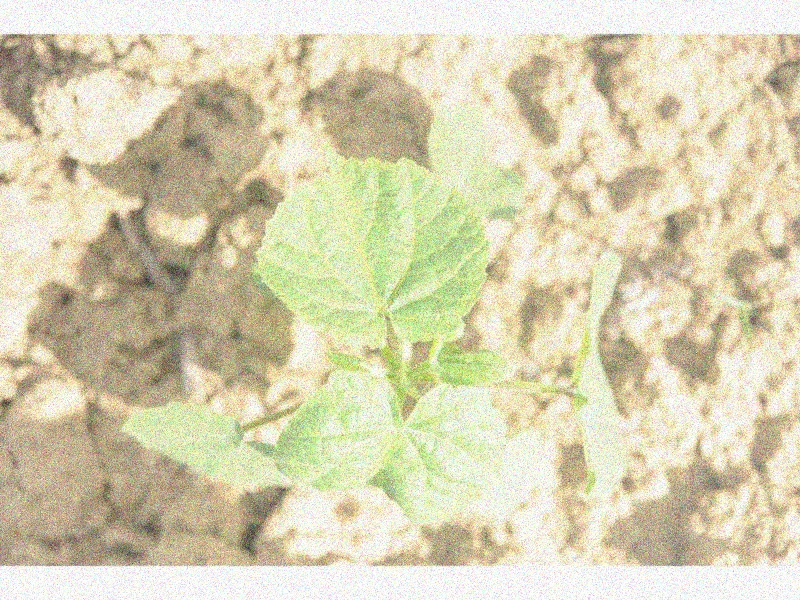velvet: (124, 101, 625, 523)
